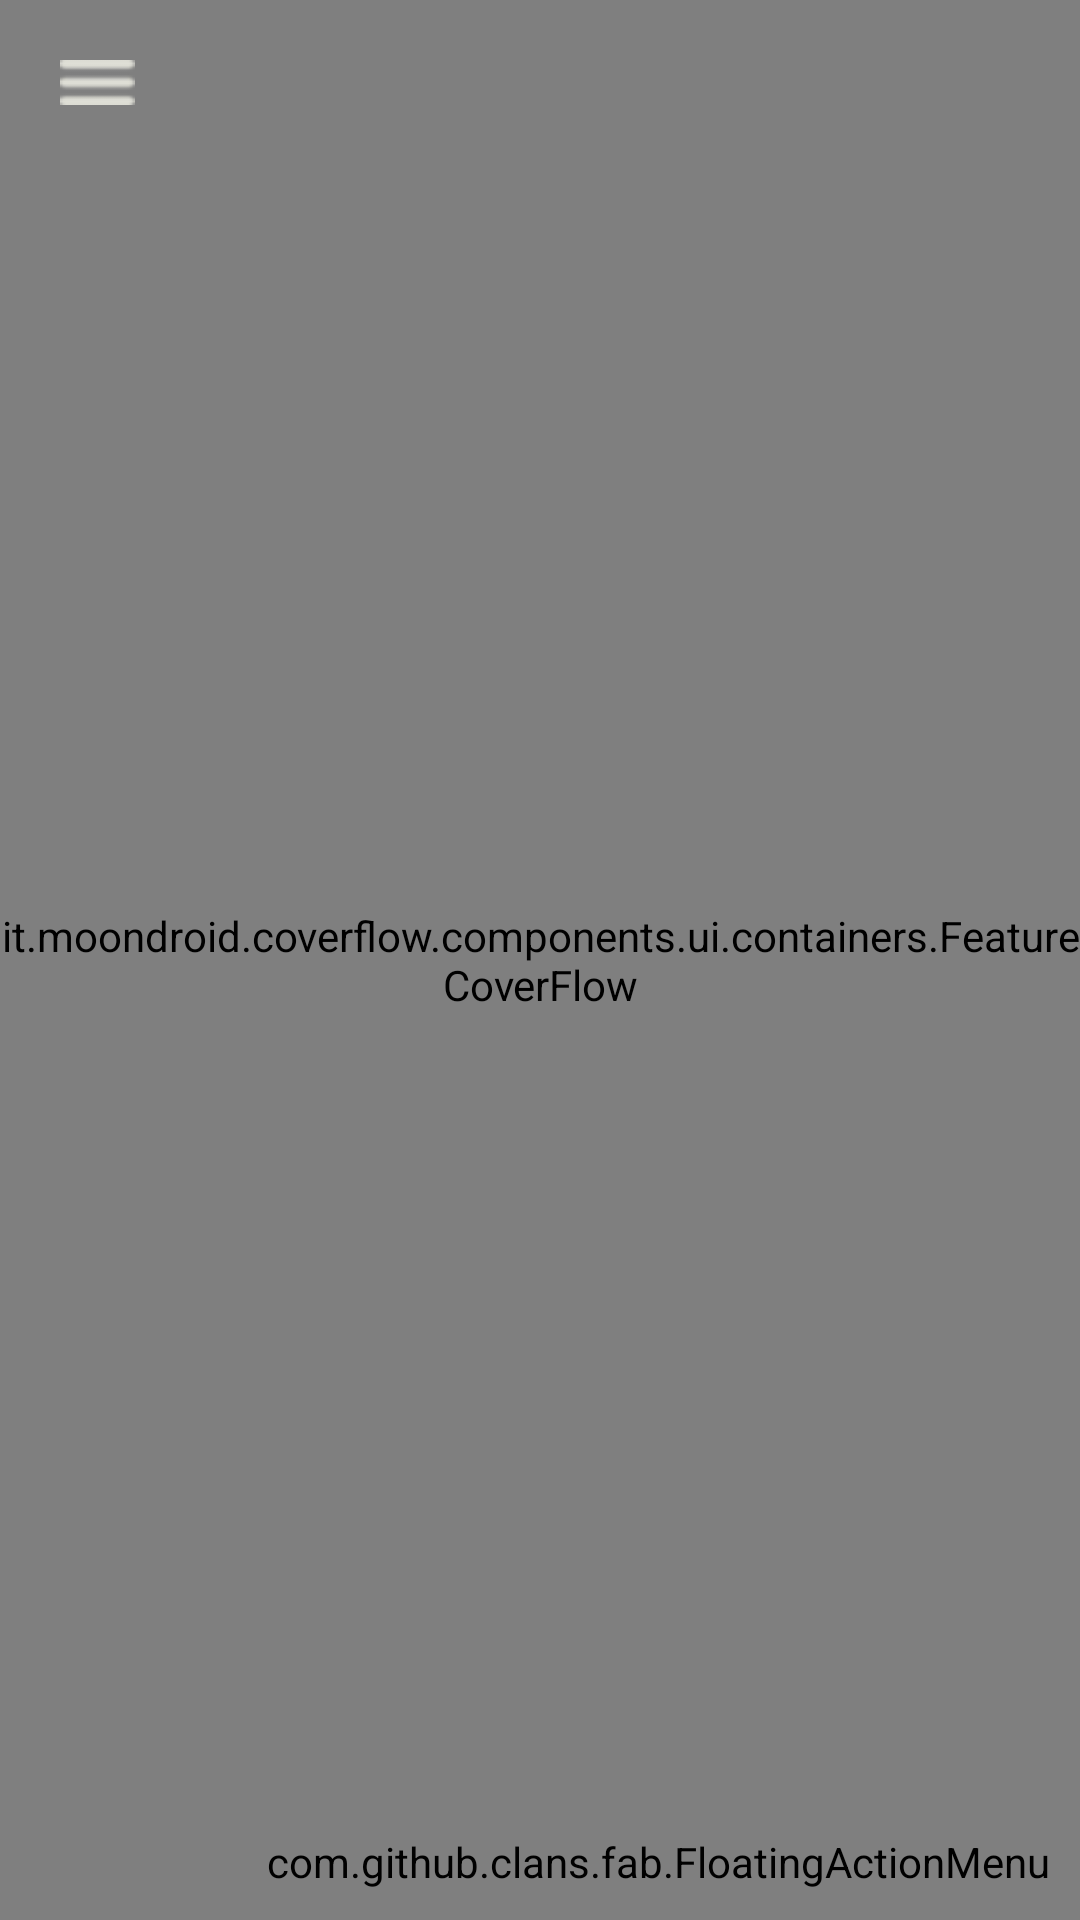

Icon click points for this 1080px x 1920px phone screenshot, format (x,y):
menu: (97,82)
